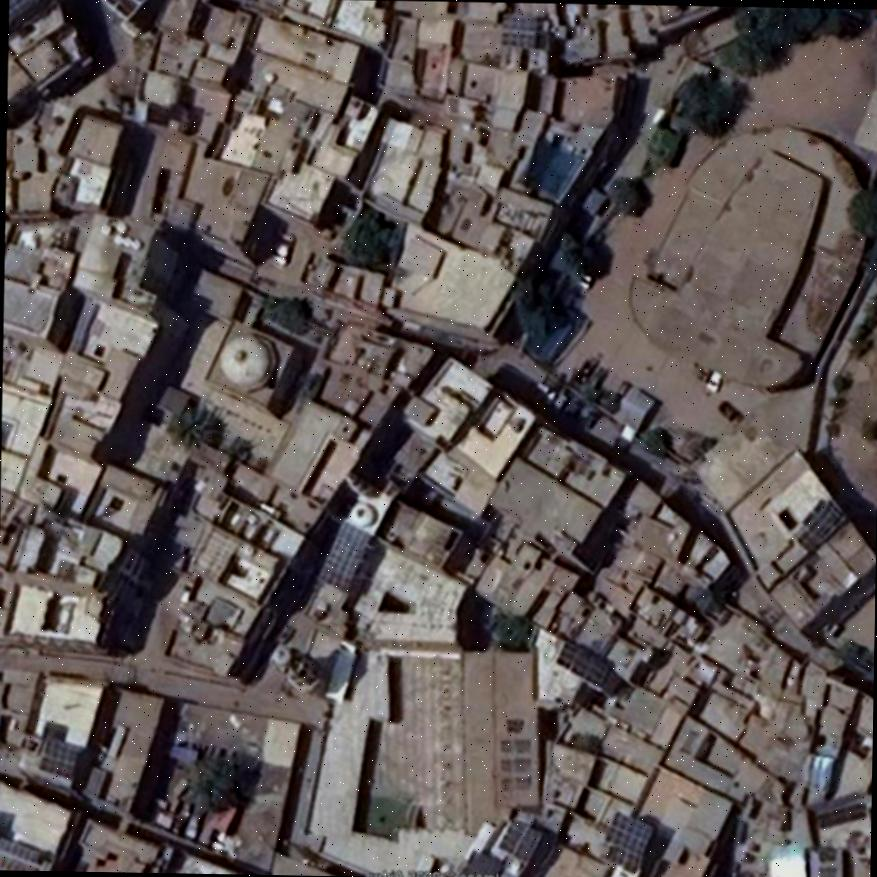Solarpanel: (316, 521, 367, 589), (606, 811, 650, 873), (556, 638, 606, 686), (497, 814, 540, 861), (39, 734, 78, 780), (499, 13, 540, 48), (0, 836, 40, 869)
